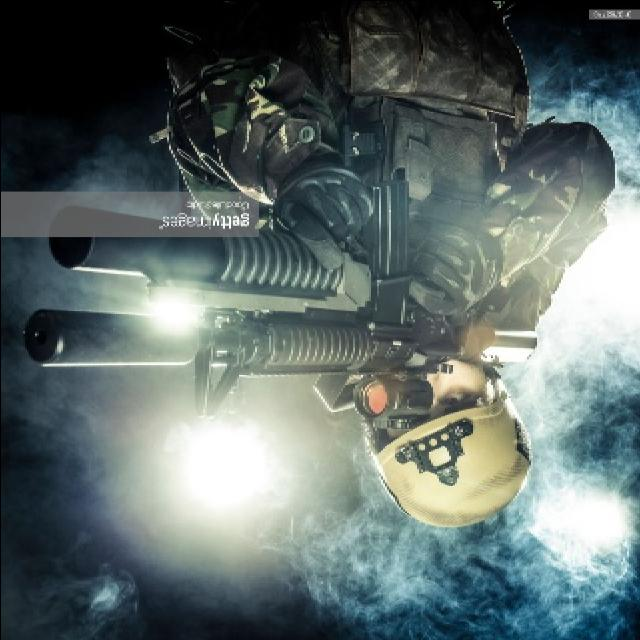rifle: (19, 204, 543, 432)
